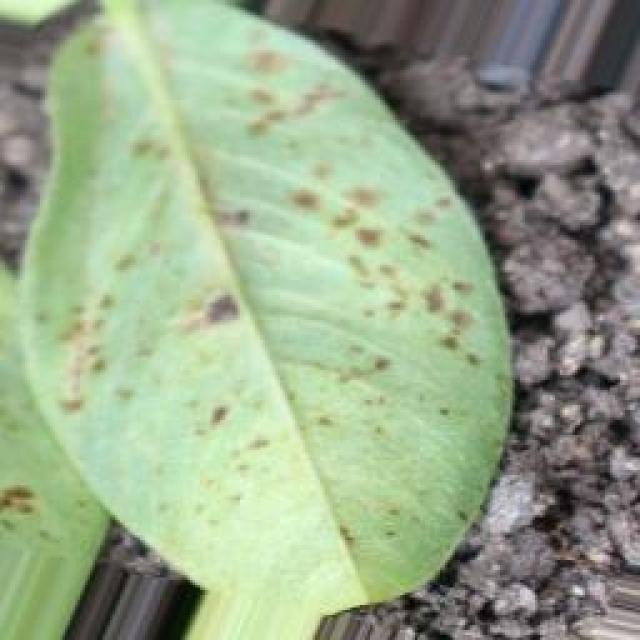Whitefly: (0, 0, 479, 640)
